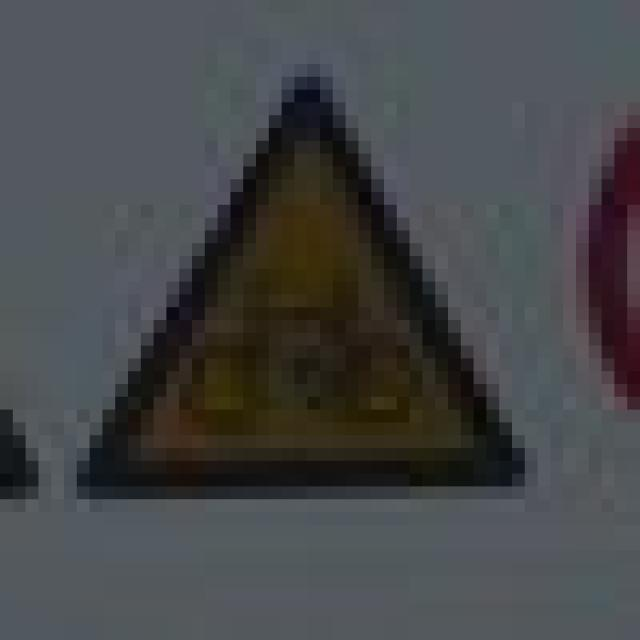cycle_crossing: (51, 51, 525, 486)
